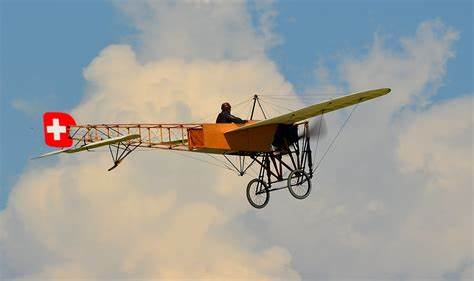Aeronef_de_loisir: (25, 84, 402, 211)
